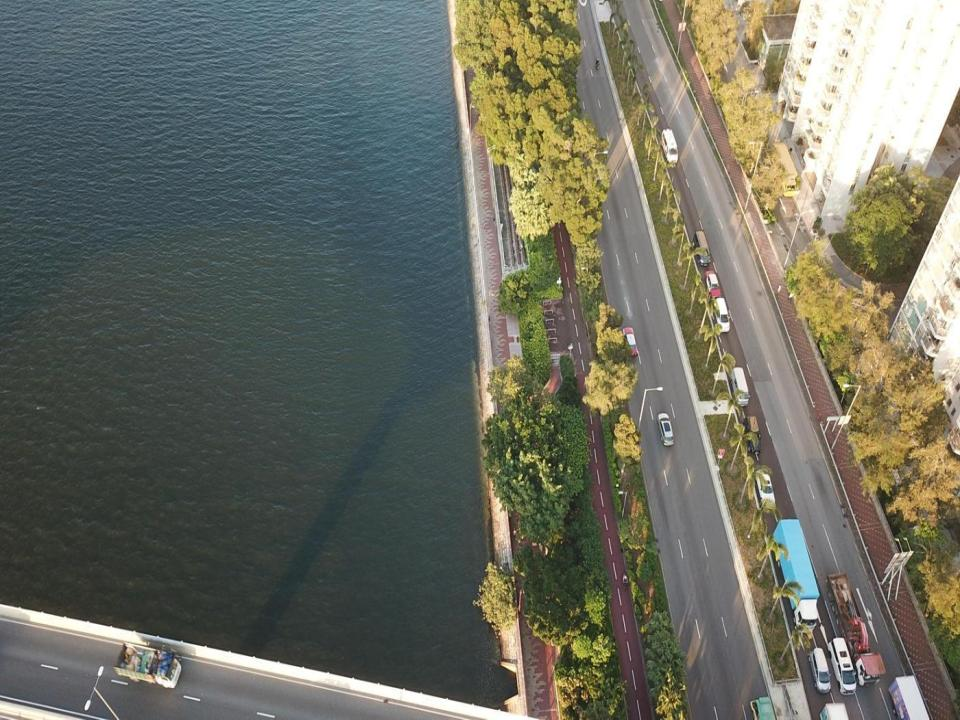car: (809, 648, 831, 692), (755, 470, 776, 510), (744, 416, 763, 455), (656, 412, 674, 446), (622, 327, 638, 357), (704, 270, 720, 299)
truck: (826, 572, 886, 688), (774, 519, 820, 627), (113, 640, 181, 689), (888, 676, 930, 719)
van: (826, 637, 856, 693), (729, 366, 751, 406), (692, 231, 710, 266), (660, 129, 678, 164), (714, 298, 730, 332)
